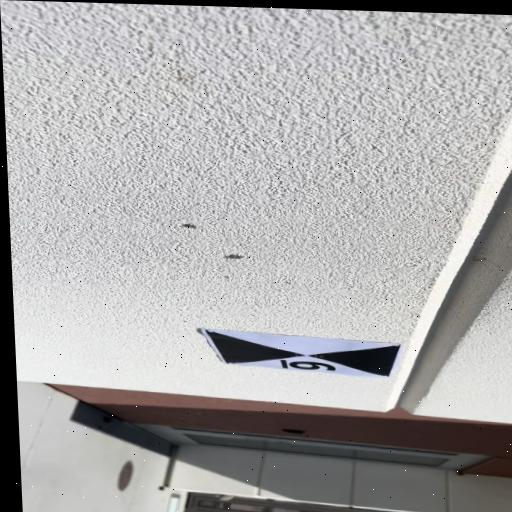target6: (200, 328, 405, 380)
